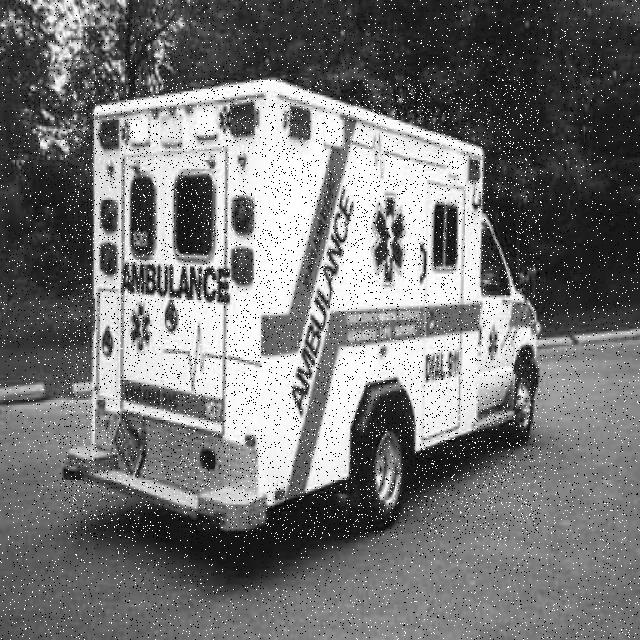Ambulance: (62, 79, 542, 539)
